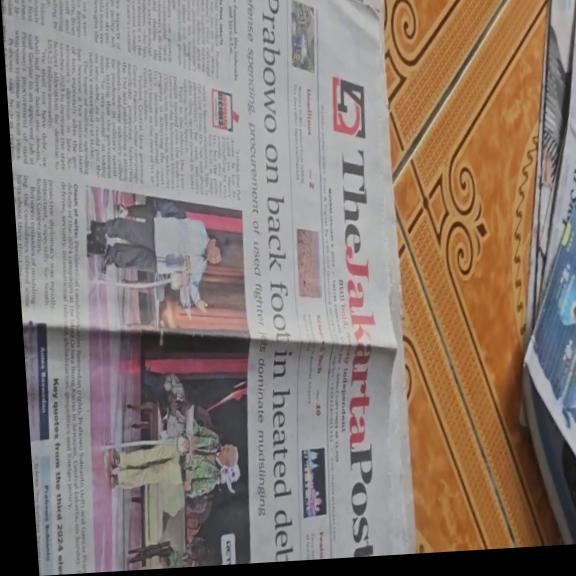Kertas: (1, 0, 414, 566)
